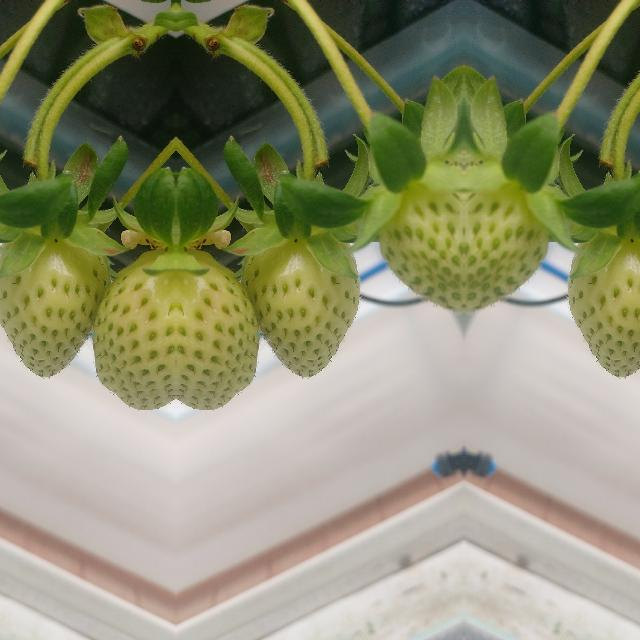Health_25: (240, 240, 358, 376), (0, 239, 110, 376), (92, 245, 176, 420), (175, 245, 258, 420), (374, 174, 462, 308), (464, 174, 552, 308), (567, 239, 640, 376)
